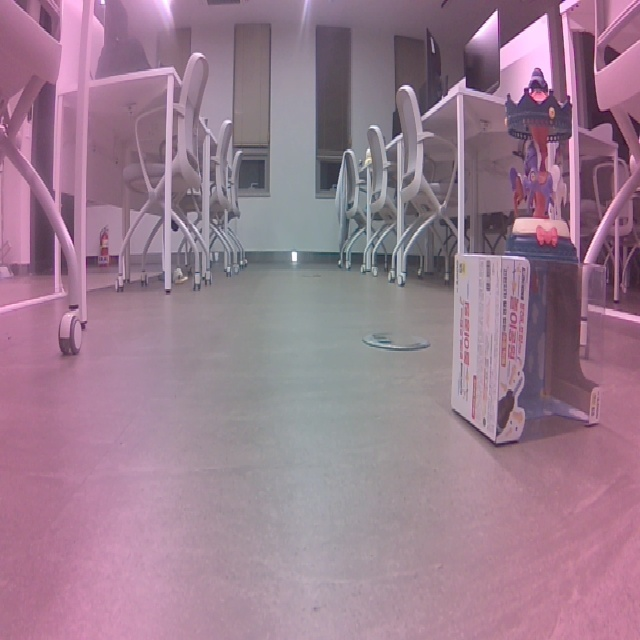목적지: (502, 63, 583, 264)
